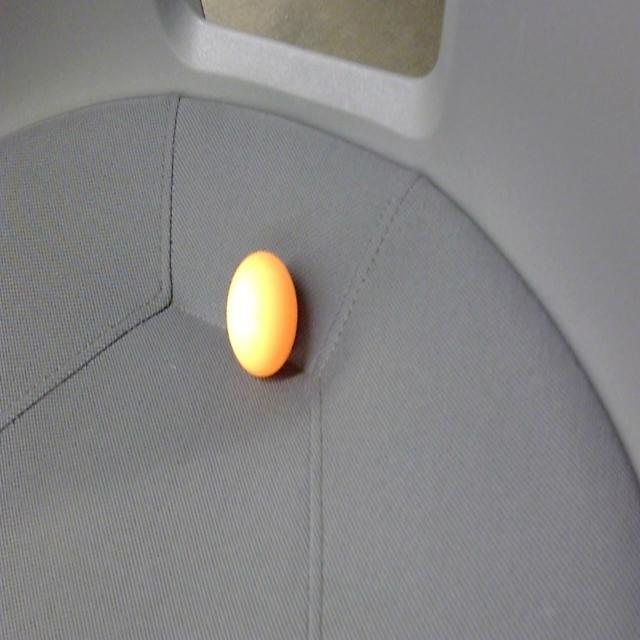ball: (226, 248, 301, 381)
